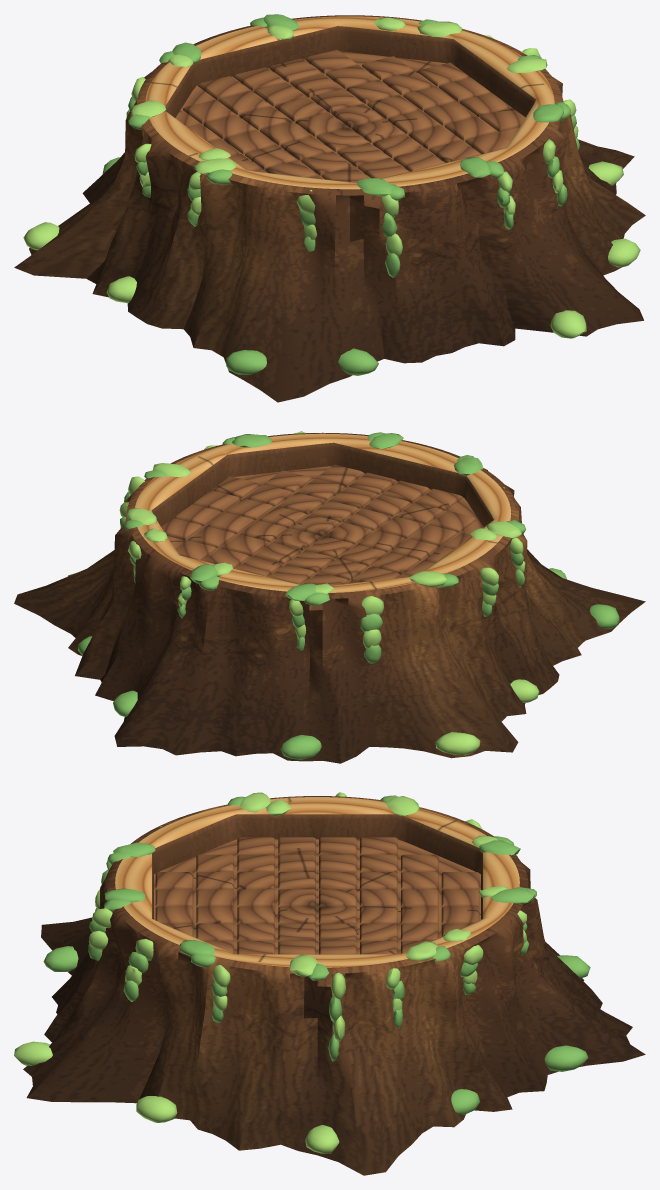
The model's file is hearth_stump.glb.
3 views of the same model, one above another, from view 1: azimuth 30°, elevation 25°; view 2: azimuth 150°, elevation 25°; view 3: azimuth 270°, elevation 25° (orthographic). The views are drawn at different scales.
Parts seen in each view (by area): view 1: hearth_stump; view 2: hearth_stump; view 3: hearth_stump.
Boxes of the visible parts, <box> form: hearth_stump: <box>14,14,645,402</box>; hearth_stump: <box>14,431,645,763</box>; hearth_stump: <box>14,792,645,1175</box>.
Size of the model in its own units: 16.18 by 4.08 by 15.46.
Materials: 6 (4 with a texture image).
